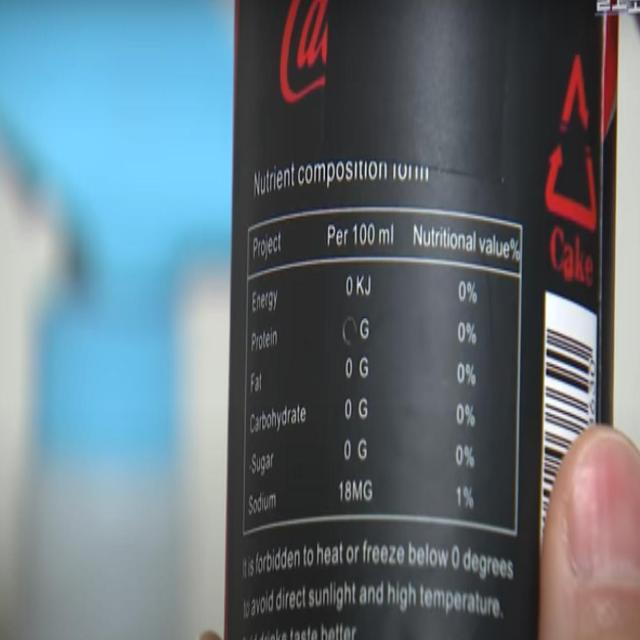hidden camera: (339, 309, 358, 350)
